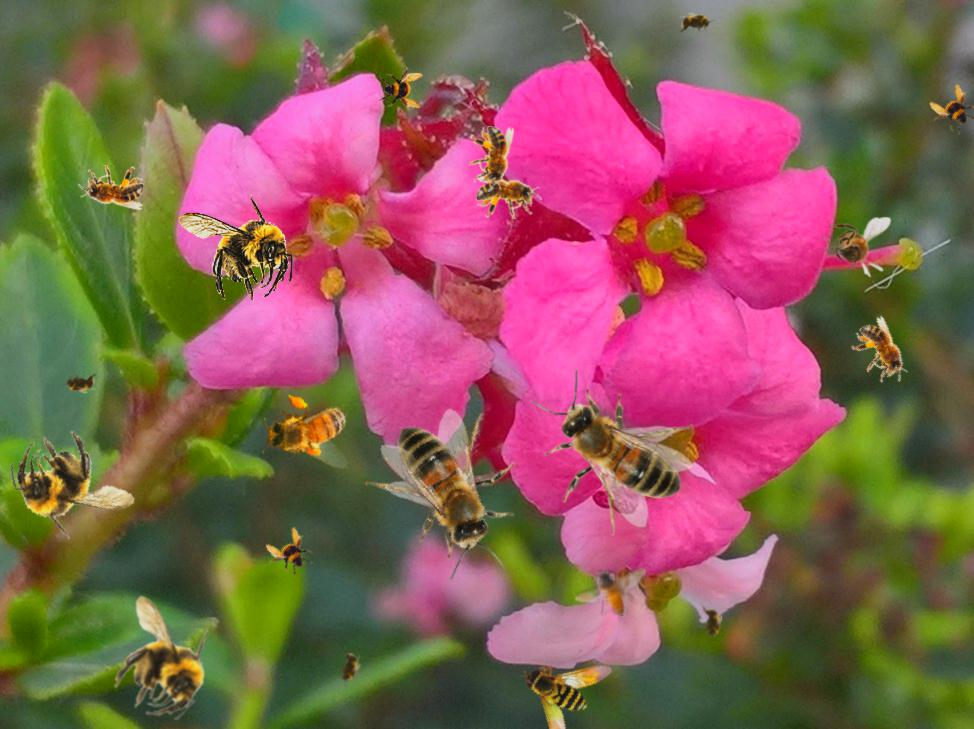Bee: (343, 381, 558, 599), (531, 369, 693, 536), (80, 579, 239, 729), (4, 419, 141, 550), (178, 194, 293, 301), (518, 639, 632, 729), (255, 386, 363, 475), (844, 313, 920, 394), (821, 217, 891, 278), (259, 523, 321, 585), (575, 567, 646, 617), (923, 80, 974, 142), (476, 174, 542, 219), (469, 126, 514, 192), (78, 165, 144, 210), (379, 66, 423, 110), (332, 645, 366, 691), (701, 603, 723, 643), (676, 12, 716, 34), (60, 372, 100, 394)
